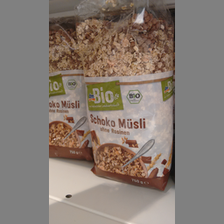cereal: (75, 11, 174, 193), (48, 19, 94, 163)
